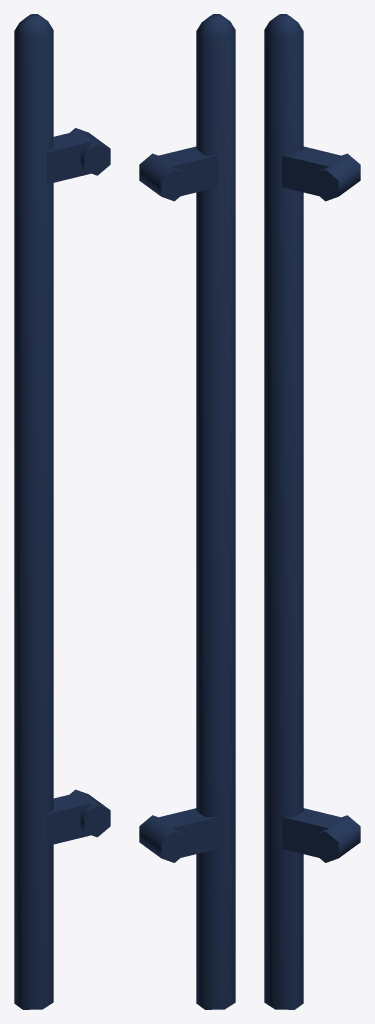
Rendered from Rail End B Test.fbx.
3 renders of one model, left to right at view 1: azimuth 30°, elevation 25°; view 2: azimuth 210°, elevation 25°; view 3: azimuth 330°, elevation 25°, orthographic.
Visible parts, largest first — view 1: Rail End B; view 2: Rail End B; view 3: Rail End B.
Part boxes in pixels (box(x1,y1,x2,y2)): Rail End B: box(14, 14, 110, 1009); Rail End B: box(139, 14, 235, 1009); Rail End B: box(264, 14, 360, 1009).
Size of the model in its own units: 0.0798 by 0.9281 by 0.0375.
